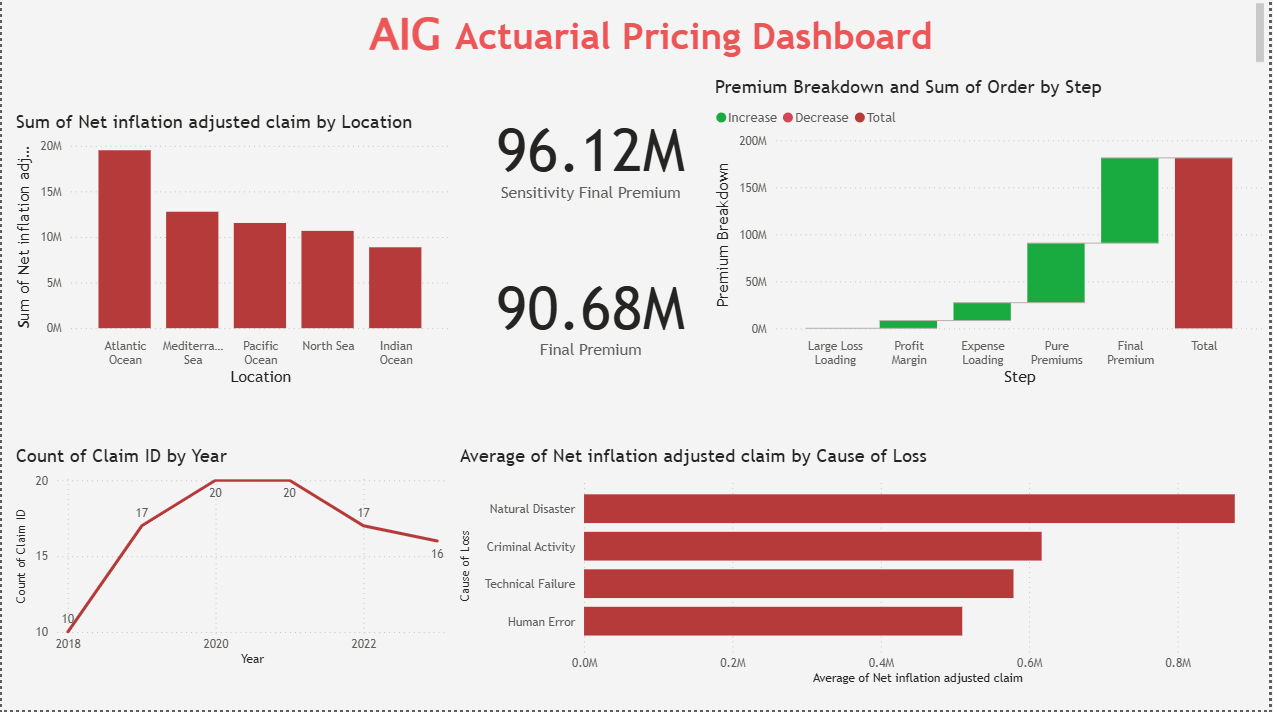

The page's visual inventory and layout, read from the dashboard file:
{"tool":"powerbi","page":{"name":"Page 1","canvas":[1280,720],"ordinal":0},"visuals":[{"type":"clusteredColumnChart","fields":{"Category":["Claims Data.Location"],"Y":["Sum(Claims Data.Net inflation adjusted claim)"]},"box":[8.7,114.3,448.4,282.2],"z":0},{"type":"textbox","box":[0,0,1279.4,79.6],"z":1000},{"type":"lineChart","fields":{"Category":["Claims Data.Year"],"Y":["CountNonNull(Claims Data.Claim ID)"]},"box":[8.6,451.7,448.3,227.6],"z":2000},{"type":"clusteredBarChart","fields":{"Category":["Claims Data.Cause of Loss"],"Y":["Avg(Claims Data.Net inflation adjusted claim)"]},"box":[456.9,451.7,822.4,246.6],"z":3000},{"type":"waterfallChart","fields":{"Category":["Table.Step Hierarchy.Step","Table.Step"],"Y":["Claims Data.Premium Breakdown"]},"box":[715.5,79.3,563.8,317.2],"z":4000},{"type":"card","fields":{"Values":["Claims Data.Sensitivity Final Premium"]},"box":[472.4,79.3,243.1,158.6],"z":4001},{"type":"card","fields":{"Values":["Claims Data.Final Premium"]},"box":[472,238,243,158],"z":4002}]}

Visuals, with their boxes in screenshot pixels (x1, y1, x2, y2), scaled from the page's 1280x720 canvas onto the 1273x712 screenshot:
clusteredColumnChart - Claims Data.Location x Sum(Claims Data.Net inflation adjusted claim): box=[9, 113, 455, 392]
textbox: box=[0, 0, 1272, 79]
lineChart - Claims Data.Year x CountNonNull(Claims Data.Claim ID): box=[9, 447, 454, 672]
clusteredBarChart - Claims Data.Cause of Loss x Avg(Claims Data.Net inflation adjusted claim): box=[454, 447, 1272, 691]
waterfallChart - Table.Step Hierarchy.Step x Table.Step: box=[712, 78, 1272, 392]
card - Claims Data.Sensitivity Final Premium: box=[470, 78, 712, 235]
card - Claims Data.Final Premium: box=[469, 235, 711, 392]
